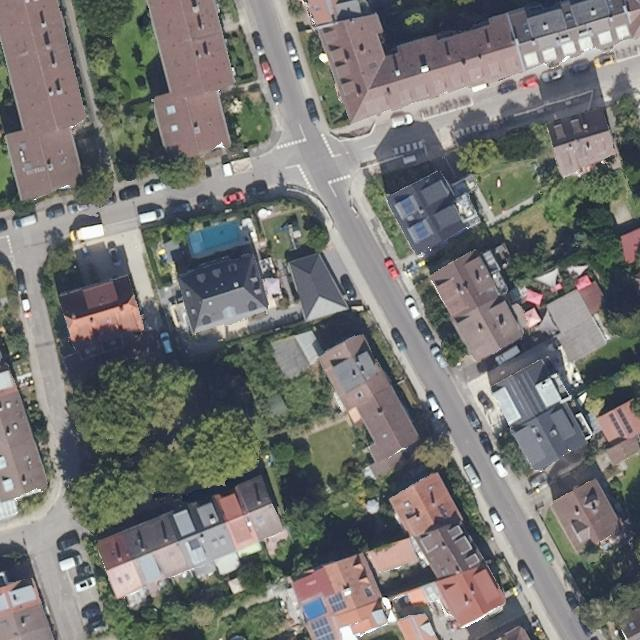PV: (309, 614, 338, 639), (616, 407, 635, 435), (608, 411, 626, 438), (326, 592, 348, 614)
